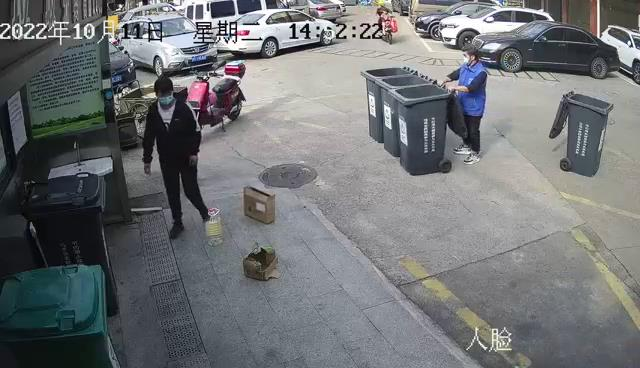person: (139, 74, 212, 241)
suliaozhipin: (203, 204, 225, 249)
worker: (439, 42, 490, 170)
zhizhipin: (239, 238, 287, 287), (239, 184, 279, 225)
